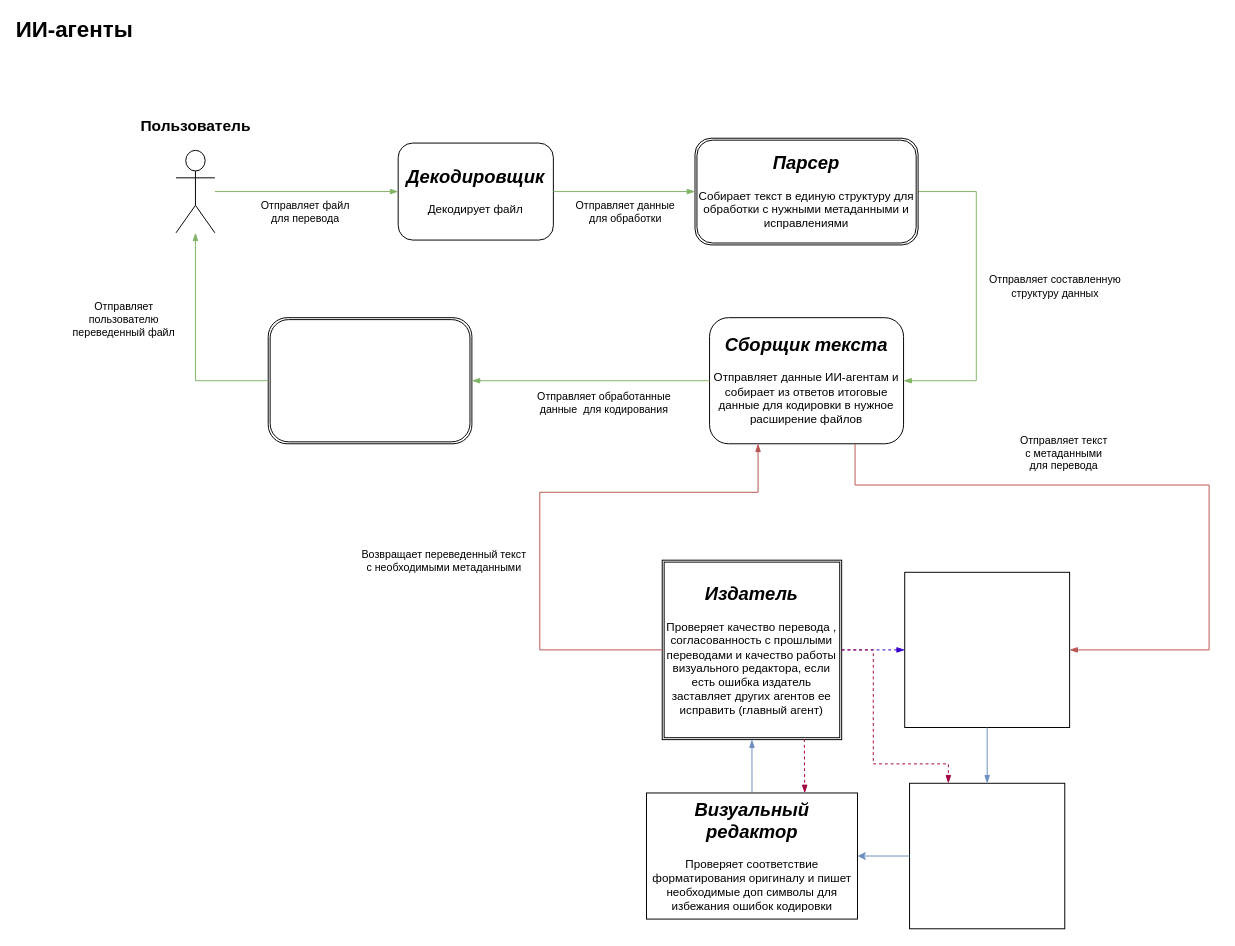
This 1235x946 diagram has some shape labels left out. Each missing label, with the box of its shape:
Аналитик Составляет необходимые примечания относительно прошлого перевода: (904, 571, 1070, 728)
Кодировщик Кодирует данные в нужный для пользователя формат: (267, 317, 472, 444)
Переводчик Переводит текст относительно примечаний аналитика: (909, 782, 1065, 929)
